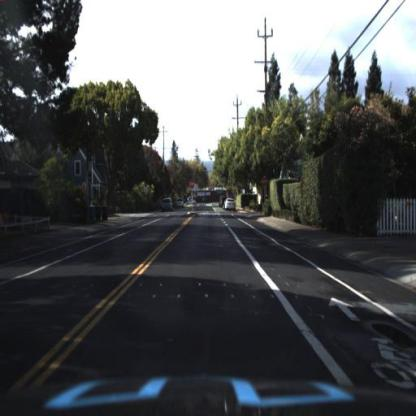car: (162, 195, 175, 215), (224, 198, 238, 212)
